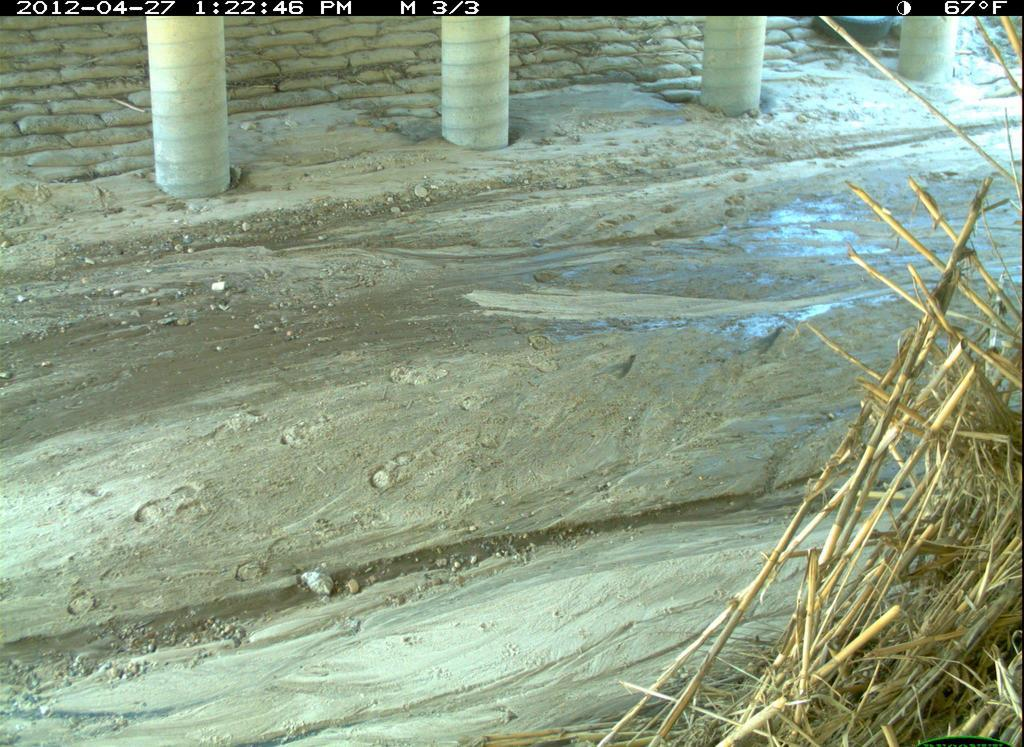bird: (734, 319, 790, 370), (587, 349, 644, 393)
